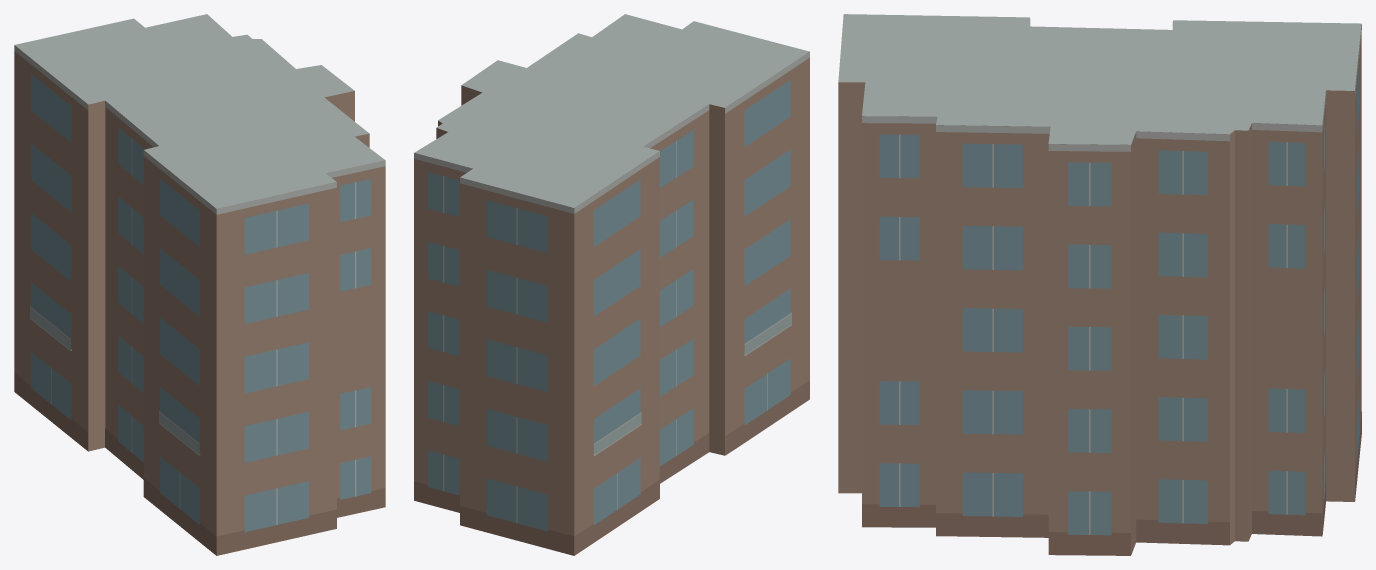
File: survey-upis-32944545.glb
3 views of the same model, side by side, from view 1: azimuth 30°, elevation 25°; view 2: azimuth 150°, elevation 25°; view 3: azimuth 270°, elevation 25° (orthographic). The views are drawn at different scales.
Visible parts, largest first — view 1: survey-upis-32944545.tmp; view 2: survey-upis-32944545.tmp; view 3: survey-upis-32944545.tmp.
Part boxes in pixels (<box>): survey-upis-32944545.tmp: <box>14,14,385,555</box>; survey-upis-32944545.tmp: <box>414,14,809,555</box>; survey-upis-32944545.tmp: <box>838,14,1361,555</box>.
Size of the model in its own units: 9.77 by 14.3 by 16.51.
